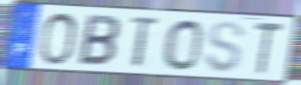B: (76, 13, 122, 68)
O: (37, 11, 79, 67), (162, 18, 204, 72)
S: (202, 19, 246, 75)
T: (253, 20, 287, 77), (129, 14, 162, 71)
